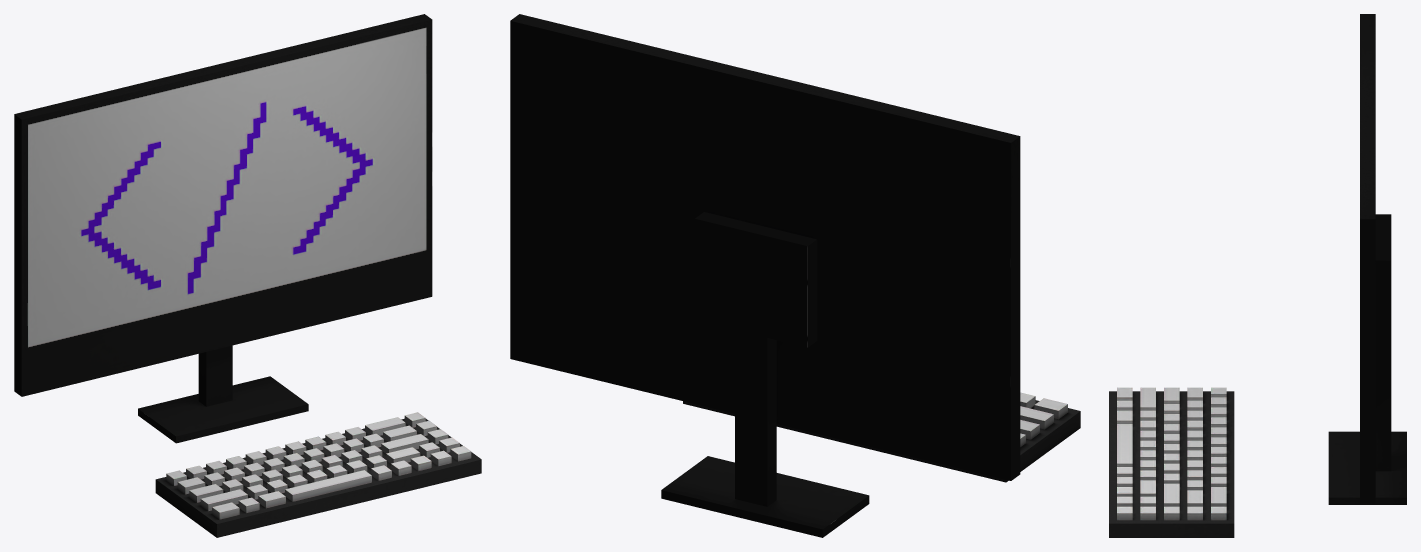
3 views of the same model, side by side, from view 1: azimuth 30°, elevation 25°; view 2: azimuth 150°, elevation 25°; view 3: azimuth 270°, elevation 25° (orthographic). The views are drawn at different scales.
Parts seen in each view (by area): view 1: PC; view 2: PC; view 3: PC.
Part boxes in pixels (x1,y1,x2,y2): PC: [14, 14, 481, 537]; PC: [510, 14, 1080, 537]; PC: [1109, 14, 1406, 537].
Size of what is drawn, in the model's own units: 6.2 by 5 by 3.8.
1 material, 1 textured.
